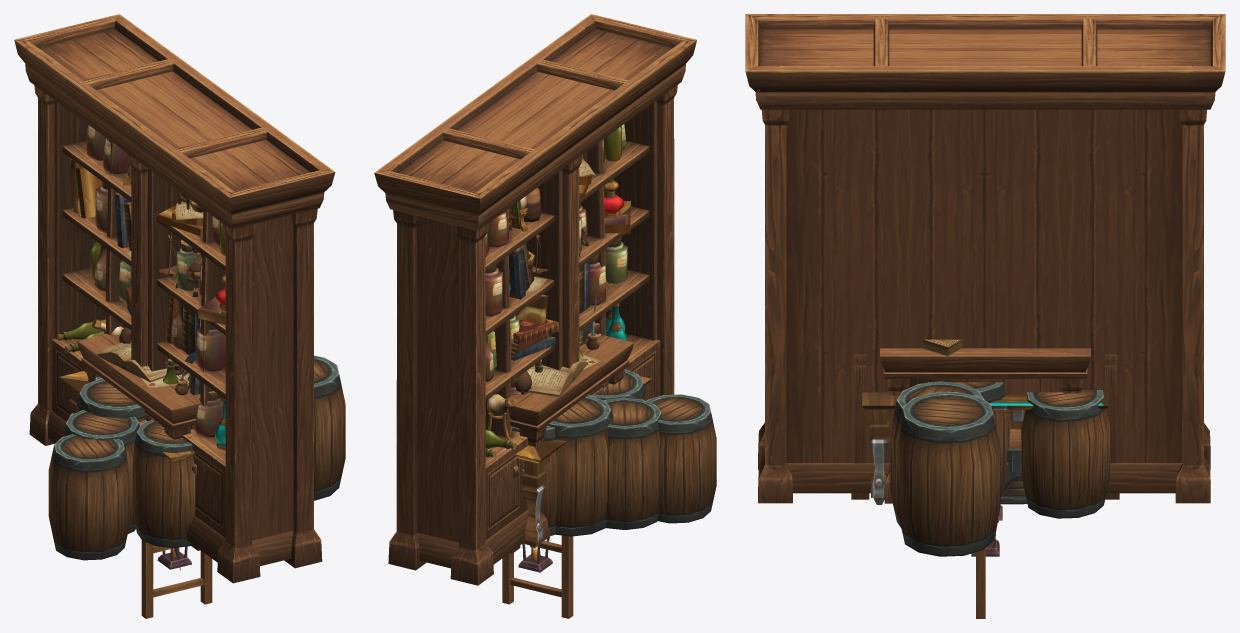
The model's file is props.dae.
3 views of the same model, side by side, from view 1: azimuth 30°, elevation 25°; view 2: azimuth 150°, elevation 25°; view 3: azimuth 270°, elevation 25° (orthographic). The views are drawn at different scales.
Visible parts, largest first — view 1: Cupboard_03_mesh, Barrels_Preset_02_Mesh, Cupboard_Big_Preset_03_mesh, Drawer_01_mesh, Cupboard_Preset_02_mesh, Barrels_Preset_01_Mesh, Ladder_01_mesh, Drawer_Preset_02_mesh, Table_01_mesh, Lantern_01; view 2: Cupboard_03_mesh, Barrels_Preset_02_Mesh, Cupboard_Big_Preset_03_mesh, Barrels_Preset_01_Mesh, Drawer_01_mesh, Cupboard_Preset_02_mesh, Table_01_mesh, Ladder_01_mesh, Drawer_Preset_02_mesh, Lantern_01; view 3: Cupboard_03_mesh, Barrels_Preset_02_Mesh, Drawer_01_mesh, Table_01_mesh, Bench_01_mesh, Barrels_Preset_01_Mesh, Treasure_Chest_lid_01_mesh, Ladder_01_mesh.
Part boxes in pixels (x1,y1,x2,y2): Cupboard_03_mesh: (14, 14, 335, 583); Barrels_Preset_02_Mesh: (48, 355, 345, 560); Cupboard_Big_Preset_03_mesh: (57, 124, 225, 450); Drawer_01_mesh: (77, 333, 201, 439); Cupboard_Preset_02_mesh: (114, 153, 202, 395); Barrels_Preset_01_Mesh: (63, 376, 139, 533); Ladder_01_mesh: (141, 540, 212, 618); Drawer_Preset_02_mesh: (97, 342, 195, 395); Table_01_mesh: (59, 371, 194, 460); Lantern_01: (157, 546, 191, 569); Cupboard_03_mesh: (374, 14, 696, 585); Barrels_Preset_02_Mesh: (547, 369, 716, 536); Cupboard_Big_Preset_03_mesh: (485, 124, 630, 457); Barrels_Preset_01_Mesh: (511, 397, 661, 535); Drawer_01_mesh: (508, 335, 633, 544); Cupboard_Preset_02_mesh: (508, 187, 592, 394); Table_01_mesh: (515, 376, 651, 547); Ladder_01_mesh: (502, 535, 573, 618); Drawer_Preset_02_mesh: (527, 294, 600, 396); Lantern_01: (518, 537, 552, 572); Cupboard_03_mesh: (745, 14, 1225, 503); Barrels_Preset_02_Mesh: (895, 382, 1109, 556); Drawer_01_mesh: (880, 348, 1090, 503); Table_01_mesh: (862, 392, 1108, 504); Bench_01_mesh: (851, 354, 1119, 499); Barrels_Preset_01_Mesh: (889, 381, 984, 528); Treasure_Chest_lid_01_mesh: (1000, 468, 1027, 503); Ladder_01_mesh: (976, 548, 985, 618).
Size of the model in its own units: 2.82 by 4.57 by 3.56.
3 materials, 3 textured.
